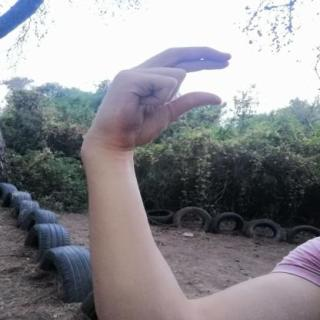DHELL: (73, 37, 242, 160)
